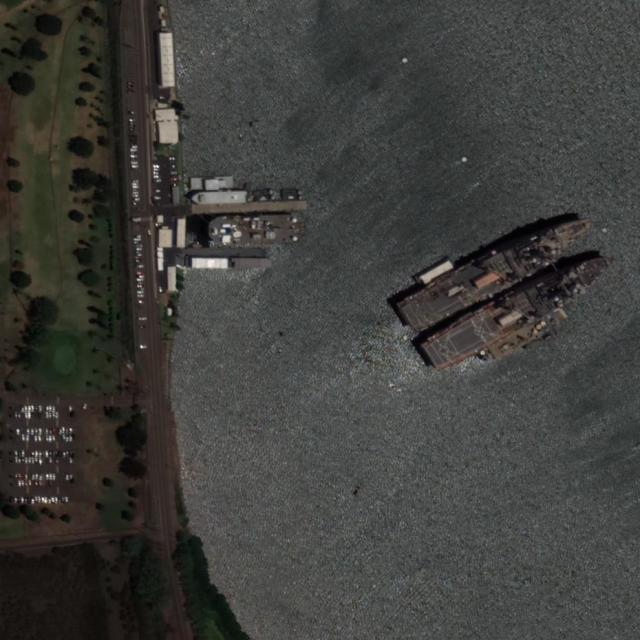Landing: (393, 200, 602, 339), (416, 242, 624, 376)
